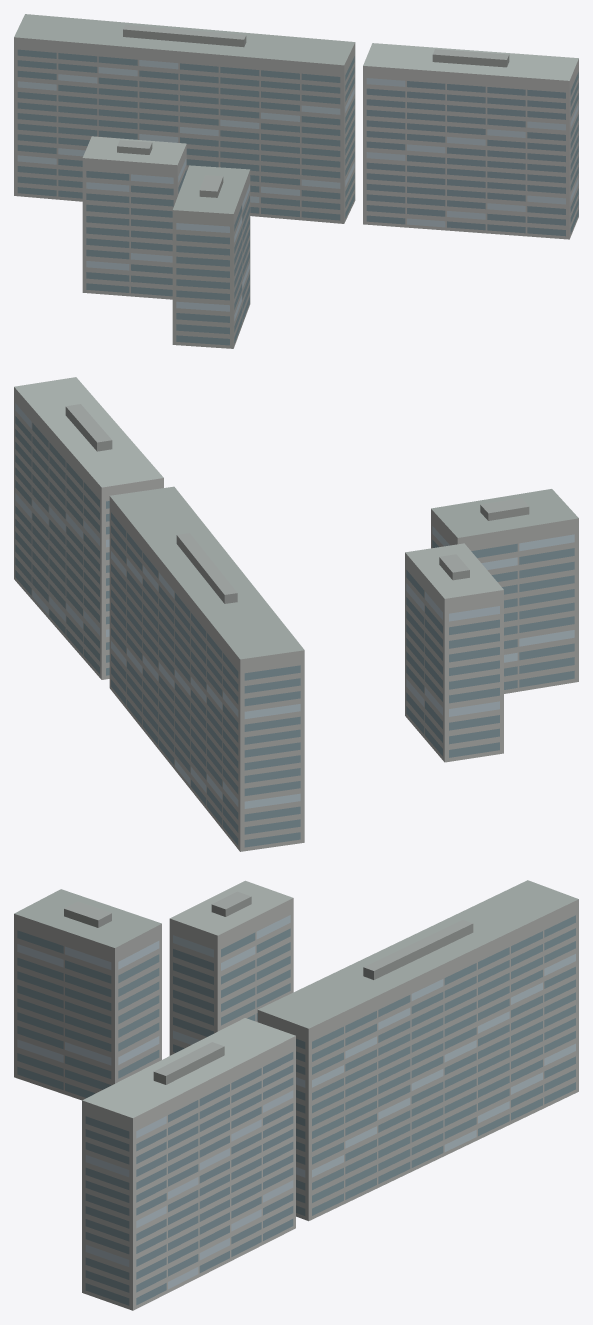
The model's file is apt-a13820001.glb.
3 views of the same model, one above another, from view 1: azimuth 30°, elevation 25°; view 2: azimuth 150°, elevation 25°; view 3: azimuth 270°, elevation 25° (orthographic). The views are drawn at different scales.
Parts seen in each view (by area): view 1: apt-a13820001; view 2: apt-a13820001; view 3: apt-a13820001.
Part boxes in pixels (bbox=[...]): apt-a13820001: bbox=[14, 14, 578, 348]; apt-a13820001: bbox=[14, 377, 578, 851]; apt-a13820001: bbox=[14, 880, 578, 1310].
Size of the model in its own units: 113 by 40 by 102.
